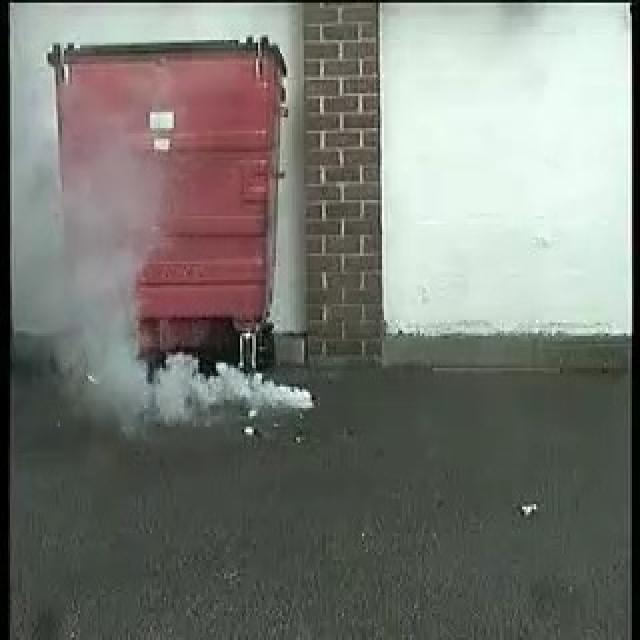Smoke: (64, 326, 320, 418)
